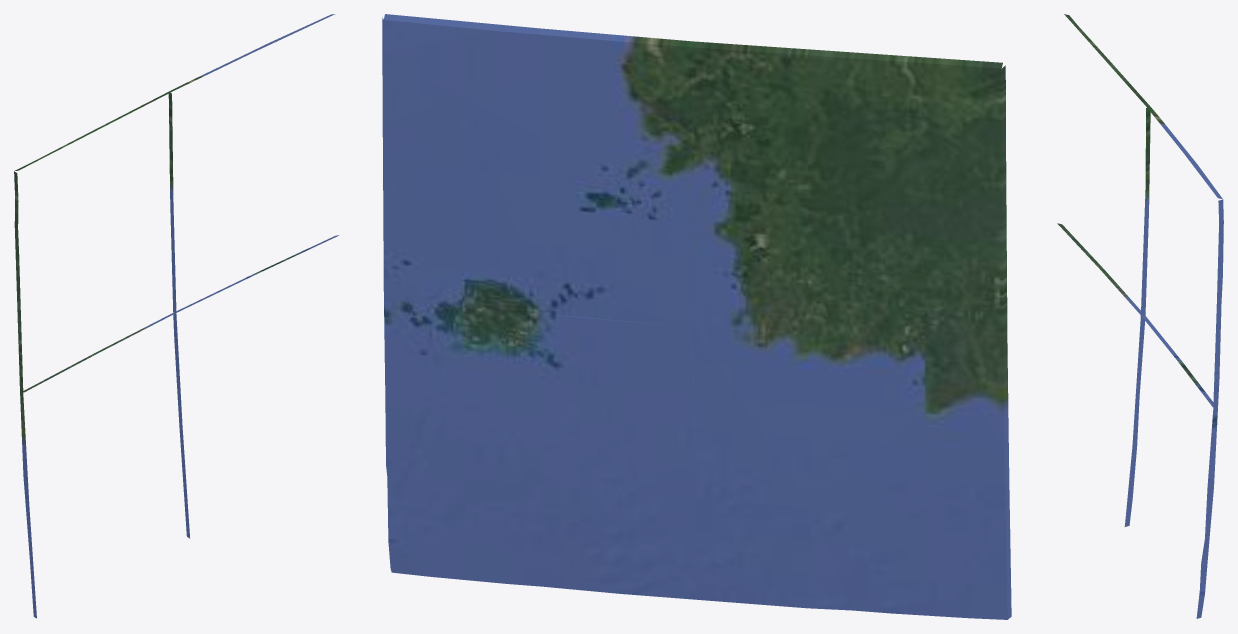
The picture shows the model from 3 angles, left to right: view 1: azimuth 30°, elevation 25°; view 2: azimuth 150°, elevation 25°; view 3: azimuth 270°, elevation 25°; orthographic projection. The views are drawn at different scales.
Size of the model in its own units: 604710 by 628191 by 249348.
1 material, 1 textured.
